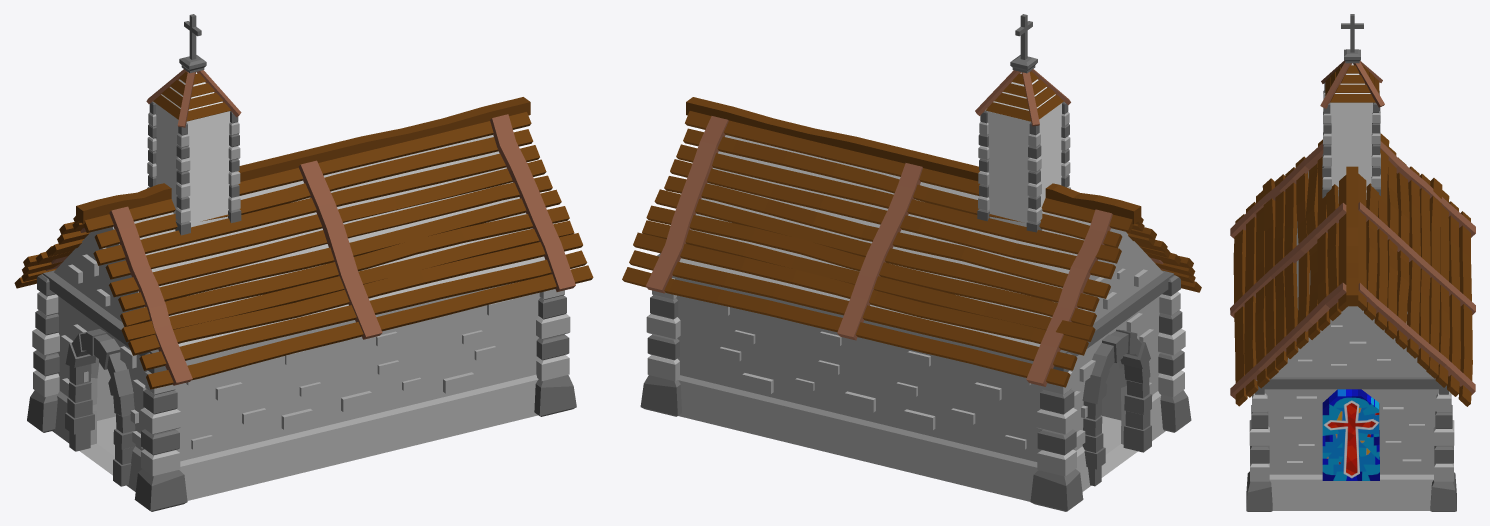
The model's file is church-fixed.fbx.
3 views of the same model, side by side, from view 1: azimuth 30°, elevation 25°; view 2: azimuth 150°, elevation 25°; view 3: azimuth 270°, elevation 25° (orthographic). The views are drawn at different scales.
Visible parts, largest first — view 1: Cube.015, Cube, Cube.025, Cube.099, Cube.003, Cube.157, Cube.018, Cube.040, Cube.010, Cube.033, Cube.087, Cube.001 (+8 smaller); view 2: Cube.001, Cube, Cube.002, Cube.099, Cube.157, Cube.003, Cube.010, Cube.066, Cube.019, Cube.018, Cube.015, Cube.035 (+7 smaller); view 3: Cube, Cube.001, Cube.015, Plane.001, Cube.025, Cube.002, Cube.099, Cube.019, Cube.090, Cube.034, Cube.033, Cube.003 (+7 smaller).
Boxes of the visible parts, x1,y1,x2,y2 form: Cube.015: [83, 112, 593, 389]; Cube: [52, 135, 545, 500]; Cube.025: [109, 114, 575, 385]; Cube.099: [155, 72, 230, 227]; Cube.003: [76, 97, 530, 223]; Cube.157: [65, 329, 135, 486]; Cube.018: [134, 352, 187, 511]; Cube.040: [186, 299, 513, 449]; Cube.010: [27, 274, 59, 432]; Cube.033: [534, 289, 576, 416]; Cube.087: [61, 247, 145, 448]; Cube.001: [14, 216, 89, 288]; Cube.001: [622, 111, 1133, 387]; Cube: [672, 135, 1165, 501]; Cube.002: [646, 116, 1112, 386]; Cube.099: [985, 72, 1062, 226]; Cube.157: [1082, 329, 1152, 486]; Cube.003: [686, 97, 1141, 224]; Cube.010: [1030, 352, 1083, 511]; Cube.066: [704, 301, 1030, 449]; Cube.019: [640, 278, 681, 416]; Cube.018: [1158, 275, 1191, 432]; Cube.015: [1126, 217, 1201, 292]; Cube.035: [1060, 270, 1173, 356]; Cube: [1264, 171, 1438, 510]; Cube.001: [1358, 133, 1472, 406]; Cube.015: [1233, 139, 1347, 406]; Plane.001: [1322, 389, 1379, 480]; Cube.025: [1230, 143, 1346, 399]; Cube.002: [1358, 141, 1475, 395]; Cube.099: [1330, 63, 1372, 189]; Cube.019: [1430, 384, 1456, 511]; Cube.090: [1284, 325, 1424, 471]; Cube.034: [1264, 377, 1438, 389]; Cube.033: [1246, 380, 1272, 511]; Cube.003: [1346, 166, 1358, 306].
Bounding box in the file's own units: 953 × 863 × 526.
